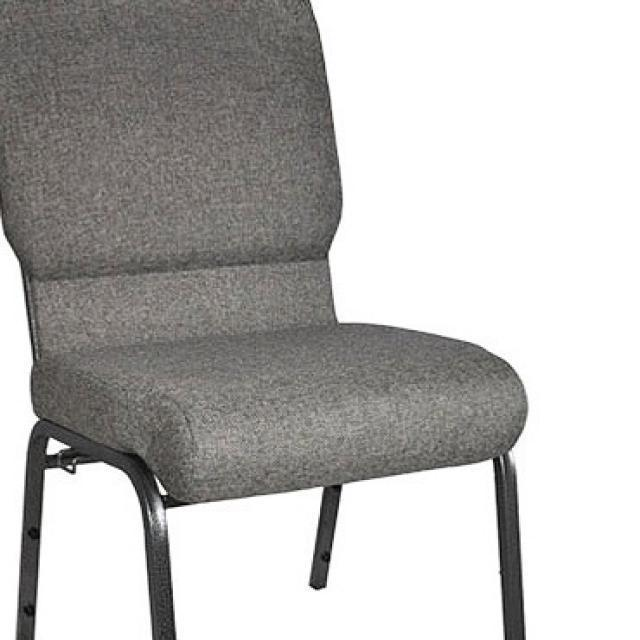chair: (1, 1, 532, 640)
